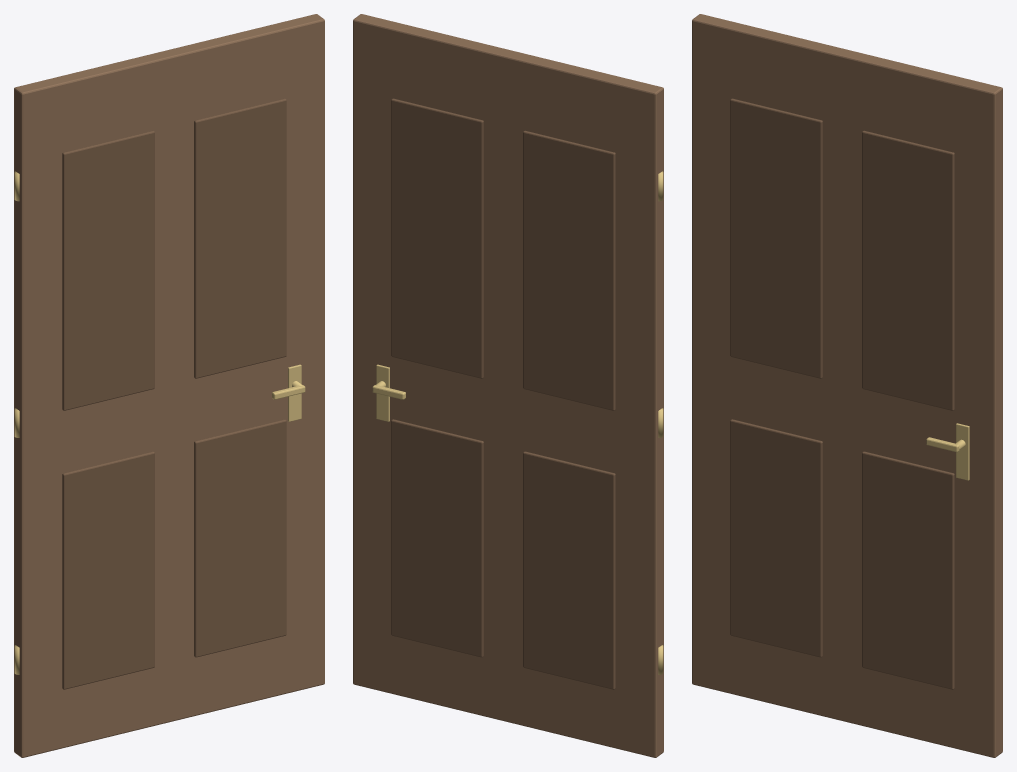
The model's file is door_wood_panel.glb.
3 views of the same model, side by side, from view 1: azimuth 30°, elevation 25°; view 2: azimuth 150°, elevation 25°; view 3: azimuth 330°, elevation 25° (orthographic).
Parts seen in each view (by area): view 1: Slab, Panel_0.76_1.56_-1, Panel_0.3_1.56_-1, Panel_0.3_0.56_-1, Panel_0.76_0.56_-1, PlateF; view 2: Slab, Panel_0.76_1.56_1, Panel_0.3_1.56_1, Panel_0.3_0.56_1, Panel_0.76_0.56_1, PlateB; view 3: Slab, Panel_0.3_1.56_-1, Panel_0.76_1.56_-1, Panel_0.76_0.56_-1, Panel_0.3_0.56_-1, PlateF.
Part boxes in pixels (<box>): Slab: <box>14,14,324,757</box>; Panel_0.76_1.56_-1: <box>194,98,286,378</box>; Panel_0.3_1.56_-1: <box>62,130,154,410</box>; Panel_0.3_0.56_-1: <box>62,451,154,689</box>; Panel_0.76_0.56_-1: <box>194,419,286,657</box>; PlateF: <box>288,364,301,421</box>; Slab: <box>353,14,663,757</box>; Panel_0.76_1.56_1: <box>391,98,483,378</box>; Panel_0.3_1.56_1: <box>523,130,615,410</box>; Panel_0.3_0.56_1: <box>523,451,615,689</box>; Panel_0.76_0.56_1: <box>391,419,483,657</box>; PlateB: <box>376,364,389,421</box>; Slab: <box>692,14,1002,757</box>; Panel_0.3_1.56_-1: <box>730,98,822,378</box>; Panel_0.76_1.56_-1: <box>862,130,954,410</box>; Panel_0.76_0.56_-1: <box>862,451,954,689</box>; Panel_0.3_0.56_-1: <box>730,419,822,657</box>; PlateF: <box>956,423,969,480</box>.
Bounding box in the file's own units: 1.07 × 2.22 × 0.16.
